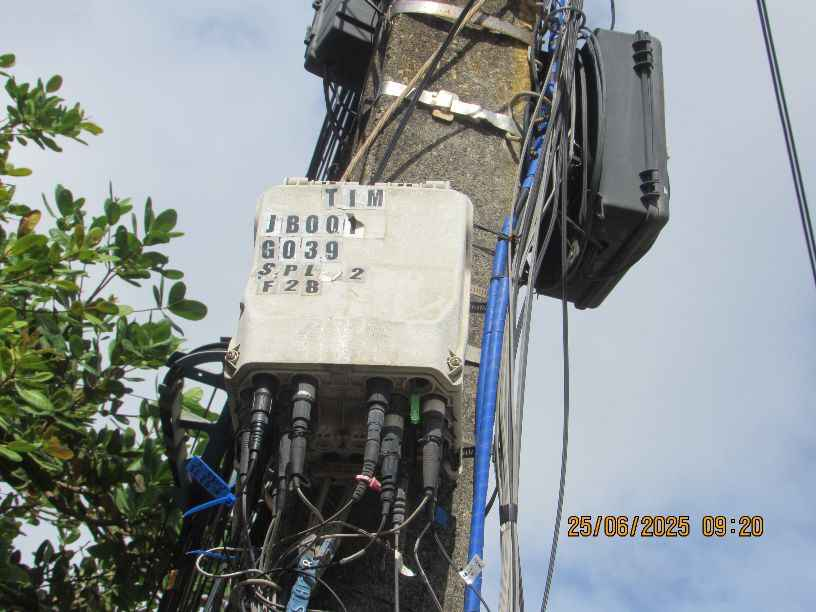caixa_derivacao: (227, 159, 480, 447), (516, 25, 676, 324)
